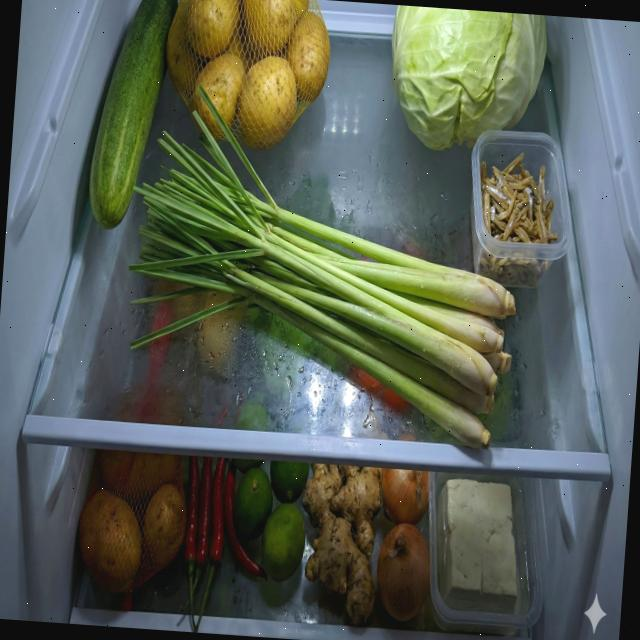anchovies: (470, 145, 564, 293)
cabbage: (385, 4, 547, 158)
chili: (176, 454, 276, 636)
cucumber: (85, 0, 178, 232)
ginger: (294, 462, 382, 628)
lemongrass: (116, 74, 532, 455)
lime: (230, 458, 310, 585)
onion: (371, 465, 436, 624)
potato: (160, 0, 335, 154), (71, 448, 191, 596)
tofu: (430, 480, 528, 616)
